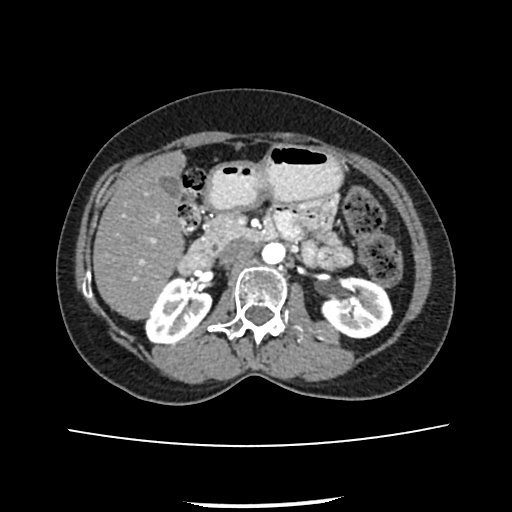aorta: (261, 240, 287, 266)
